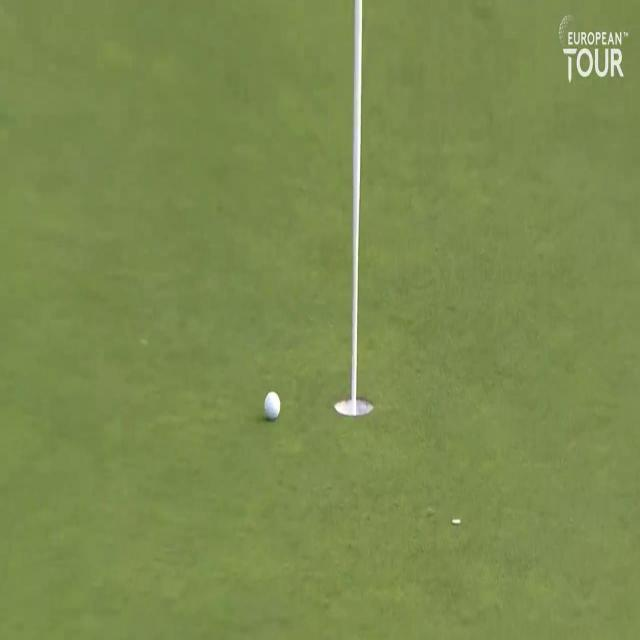GolfBall: (258, 384, 288, 430)
